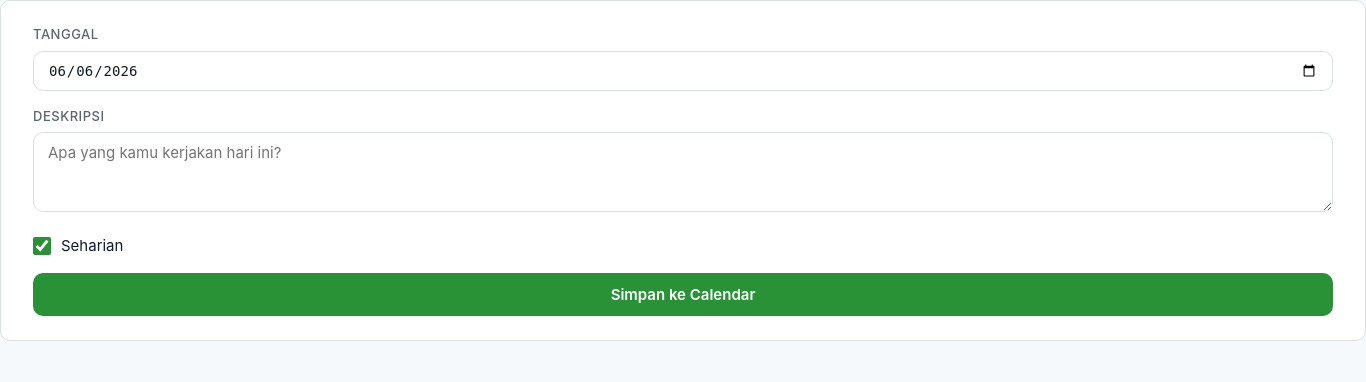
Test: ActivityForm › shows validation error when description is empty on submit
Click the button with test id "submit-button". click: (683, 294)
box: [33,273,1333,316]
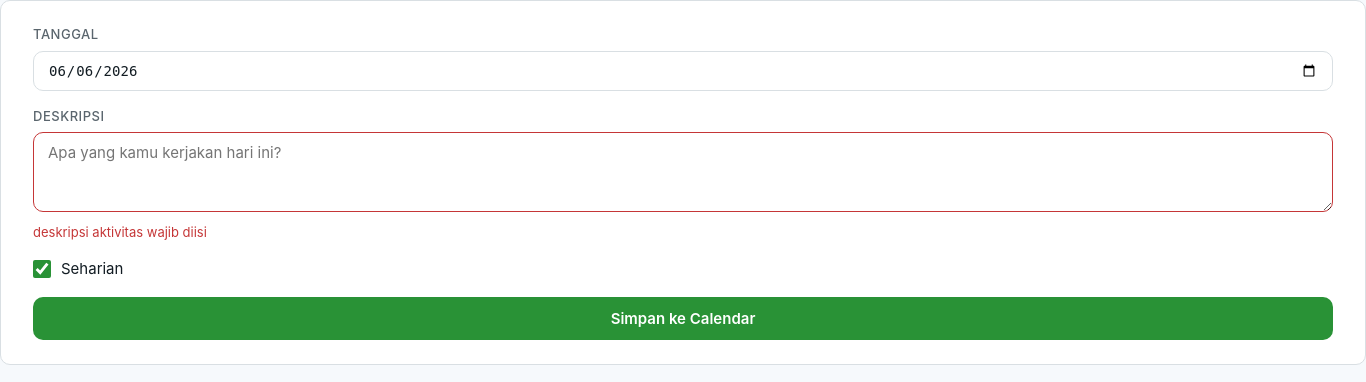
Expected: the message with test id "error-description" reads "deskripsi aktivitas wajib diisi", [33,224,207,240]
